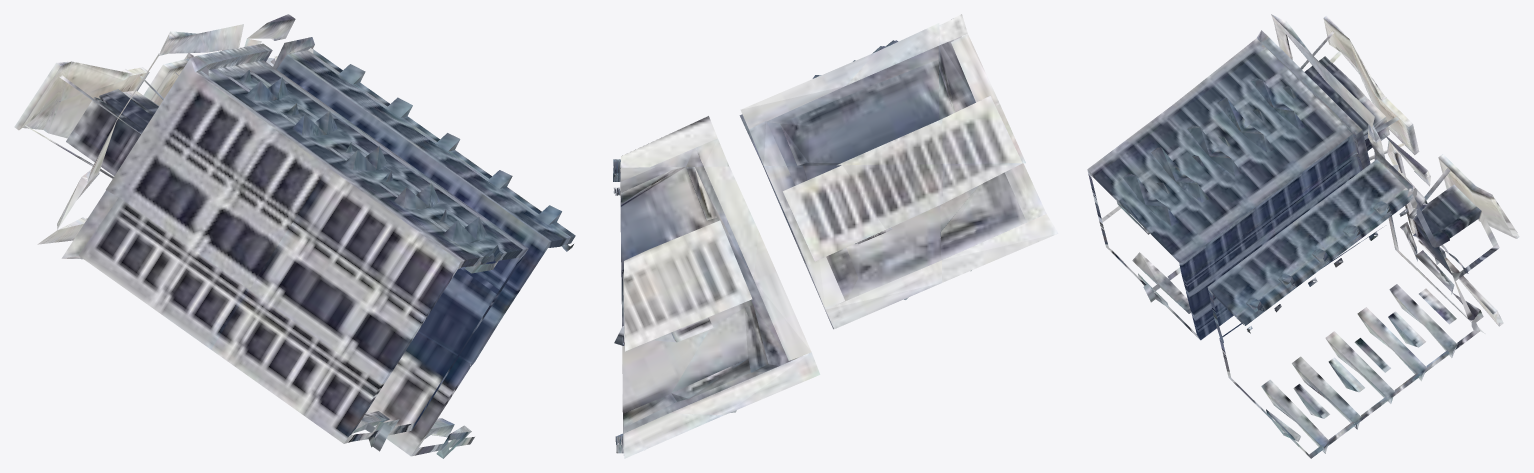
3 views of the same model, side by side, from view 1: azimuth 30°, elevation 25°; view 2: azimuth 150°, elevation 25°; view 3: azimuth 270°, elevation 25° (orthographic). The views are drawn at different scales.
Size of the model in its own units: 60.69 by 58.31 by 67.67.
Materials: 2 (2 with a texture image).
